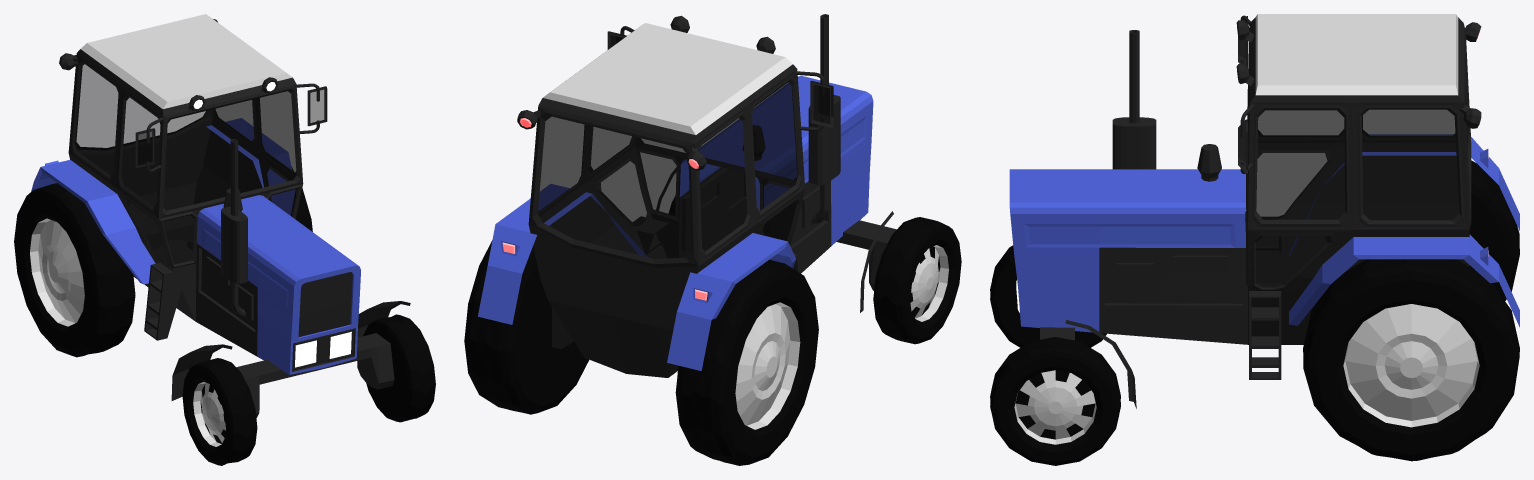
Rendered from tractor.glb.
The picture shows the model from 3 angles, left to right: view 1: azimuth 30°, elevation 25°; view 2: azimuth 150°, elevation 25°; view 3: azimuth 270°, elevation 25°; orthographic projection. The views are drawn at different scales.
Parts seen in each view (by area): view 1: Object_8, Object_5, Object_7, Object_2, Object_6, Object_3; view 2: Object_8, Object_5, Object_7, Object_6, Object_2; view 3: Object_8, Object_5, Object_6, Object_2, Object_7.
Part boxes in pixels (x1,y1,x2,y2): Object_8: (59, 19, 410, 418); Object_5: (14, 168, 435, 465); Object_7: (75, 64, 324, 264); Object_2: (31, 118, 360, 374); Object_6: (30, 14, 292, 446); Object_3: (193, 82, 351, 367); Object_8: (517, 14, 896, 377); Object_5: (464, 196, 961, 465); Object_7: (538, 35, 829, 258); Object_6: (543, 23, 948, 429); Object_2: (478, 76, 873, 370); Object_8: (1040, 15, 1481, 408); Object_5: (990, 160, 1519, 465); Object_6: (1014, 14, 1479, 444); Object_2: (1009, 134, 1519, 332); Object_7: (1256, 109, 1467, 286).
Size of the model in its own units: 1.87 by 2.39 by 3.15.
